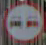No overtake: (6, 0, 45, 42)
